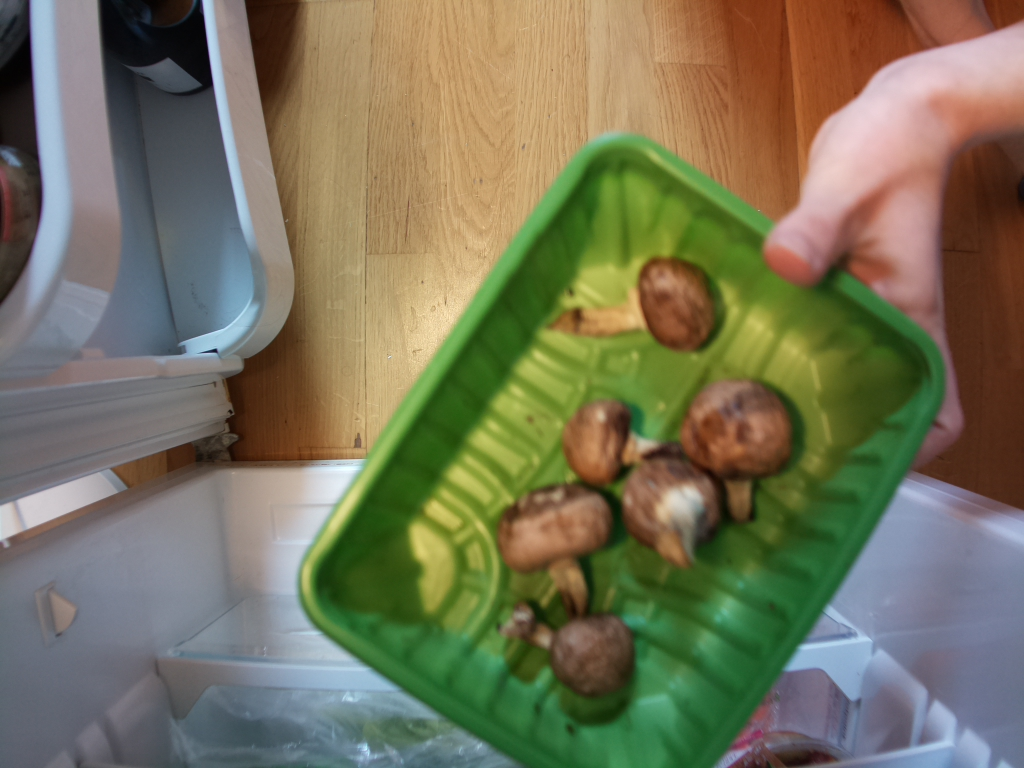mushrooms-bad: (294, 125, 939, 768)
